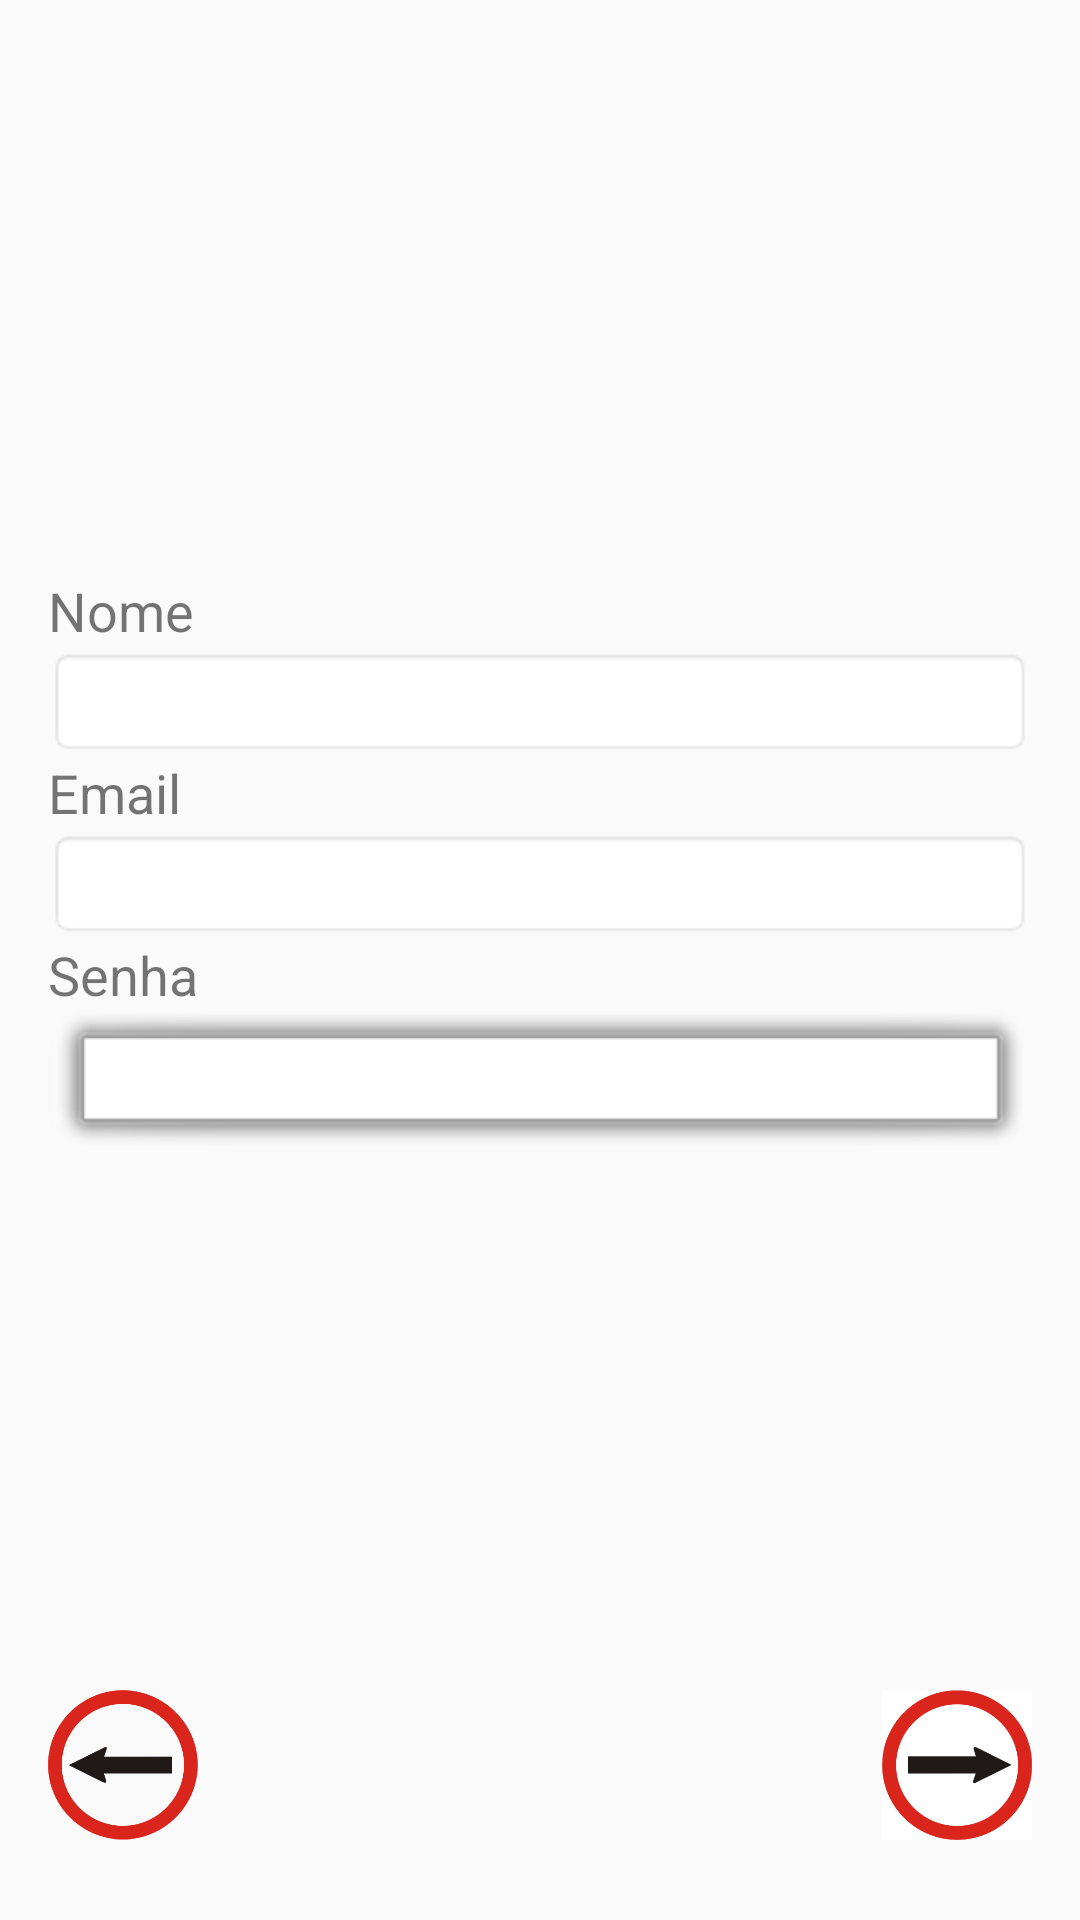

Where to tap for icons on this 1080*1920 app screen, as (x,y):
voltar: (123,1765)
